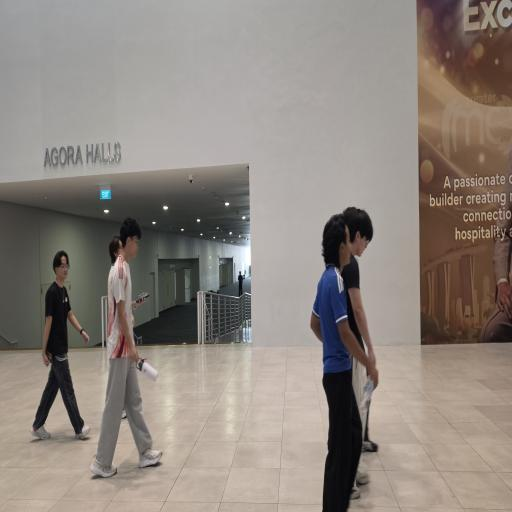person_right: (90, 221, 150, 479), (310, 214, 357, 512), (38, 233, 90, 447), (344, 206, 374, 504), (100, 230, 128, 420)
